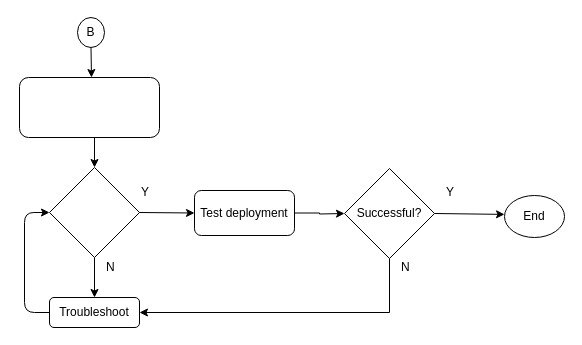
Image size: 582x345. Some labels were removed from this diagram. Here are the shapes that lost their labels. From the top down, the centre of each, then its label:
At point (89, 107): "Deploy Storage Classes for your applications that is supported by OpenEBS".
At point (94, 212): "Deployment successful?".
